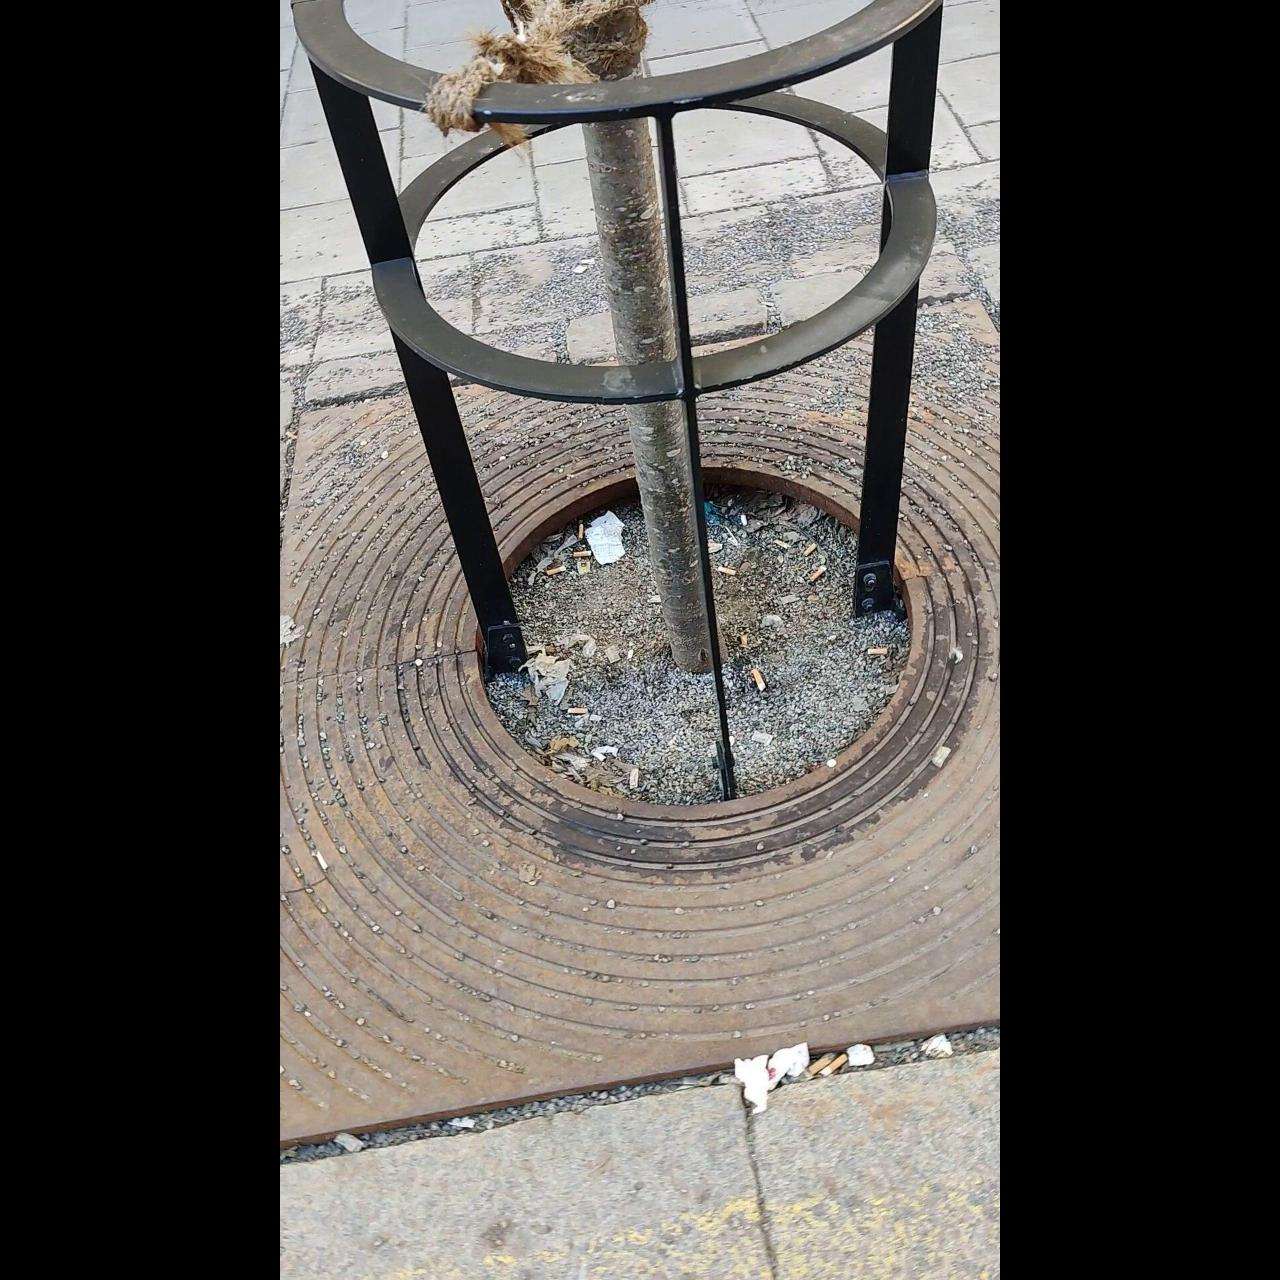cigarettes_butts: (825, 1054, 849, 1078), (803, 1059, 829, 1079), (749, 667, 765, 689), (809, 566, 825, 582), (546, 566, 566, 578), (566, 706, 592, 714), (715, 570, 741, 576), (865, 648, 891, 654), (575, 550, 593, 558), (804, 546, 814, 558), (579, 524, 583, 540), (742, 634, 750, 642)
others: (931, 747, 951, 767), (752, 728, 770, 742), (630, 768, 640, 791)
